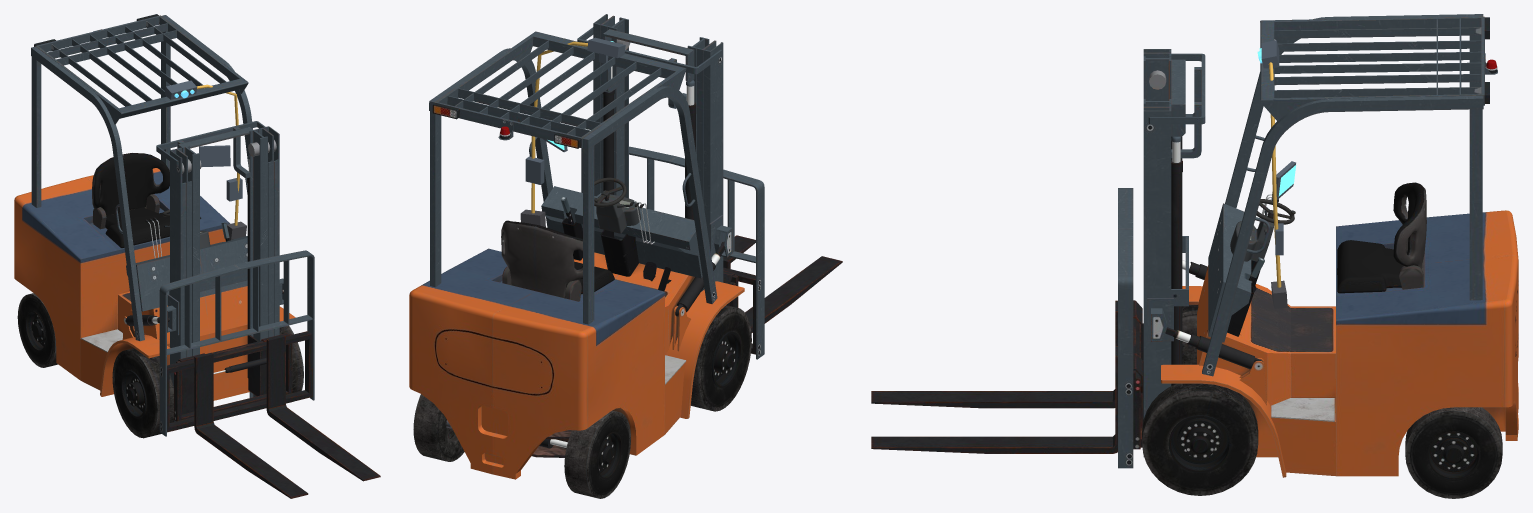
Rendered from forklift.glb.
The picture shows the model from 3 angles, left to right: view 1: azimuth 30°, elevation 25°; view 2: azimuth 150°, elevation 25°; view 3: azimuth 270°, elevation 25°; orthographic projection. The views are drawn at different scales.
Visible parts, largest first — view 1: Forklift_FORK_EYE; view 2: Forklift_FORK_EYE; view 3: Forklift_FORK_EYE.
Boxes of the visible parts, <box> form: Forklift_FORK_EYE: <box>14,14,380,498</box>; Forklift_FORK_EYE: <box>409,14,842,498</box>; Forklift_FORK_EYE: <box>871,14,1518,498</box>.
Bounding box in the file's own units: 1.04 × 2 × 2.9.
6 materials, 1 textured.
